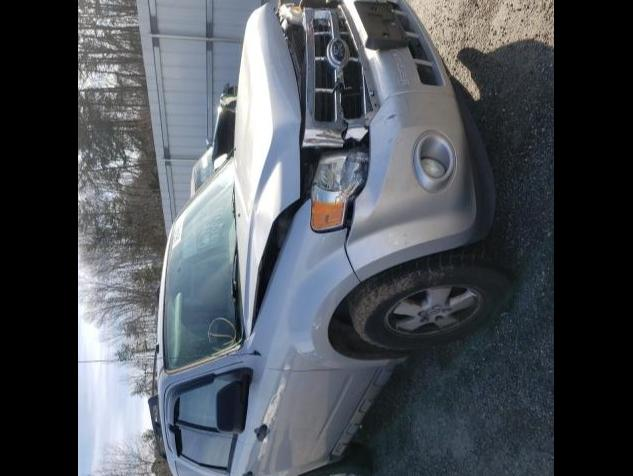Broken part: (234, 2, 324, 340), (278, 0, 380, 148), (298, 124, 370, 232)
Dent: (236, 52, 254, 208)
Missing part: (356, 0, 406, 40)
